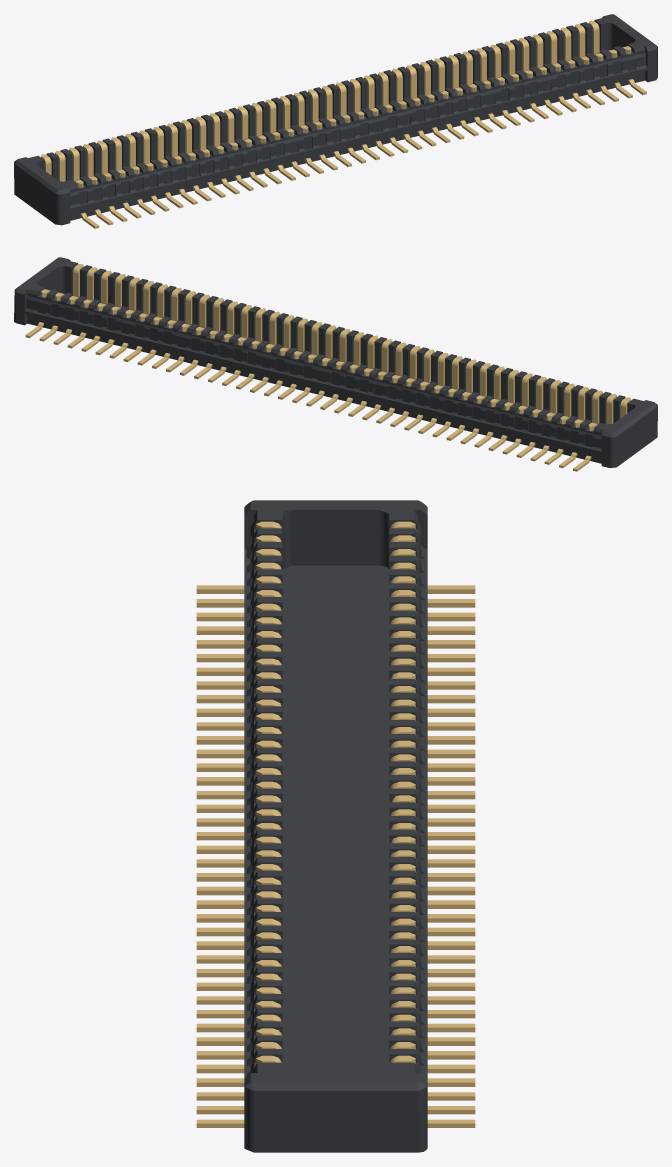
File: kc-molex_slimstack_55560-0801_2x40_p0.50mm_vertical.glb
3 views of the same model, one above another, from view 1: azimuth 30°, elevation 25°; view 2: azimuth 150°, elevation 25°; view 3: azimuth 270°, elevation 25° (orthographic). The views are drawn at different scales.
Parts seen in each view (by area): view 1: 0.08333333333333333_0.08333333333333333_0.08333333333333333_, 0.75_0.5_0.25_0.9; view 2: 0.08333333333333333_0.08333333333333333_0.08333333333333333_, 0.75_0.5_0.25_0.9; view 3: 0.08333333333333333_0.08333333333333333_0.08333333333333333_, 0.75_0.5_0.25_0.9.
Boxes of the visible parts, bbox=[...] form: 0.08333333333333333_0.08333333333333333_0.08333333333333333_: bbox=[14, 14, 657, 225]; 0.75_0.5_0.25_0.9: bbox=[41, 20, 646, 228]; 0.08333333333333333_0.08333333333333333_0.08333333333333333_: bbox=[14, 257, 657, 467]; 0.75_0.5_0.25_0.9: bbox=[25, 264, 630, 471]; 0.08333333333333333_0.08333333333333333_0.08333333333333333_: bbox=[244, 500, 427, 1152]; 0.75_0.5_0.25_0.9: bbox=[196, 521, 475, 1127].
Size of the model in its own units: 2.14 by 0.115 by 0.43.
